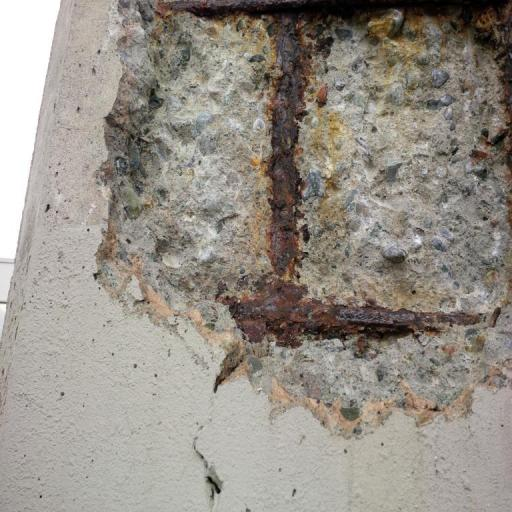spalling: (106, 1, 512, 430)
